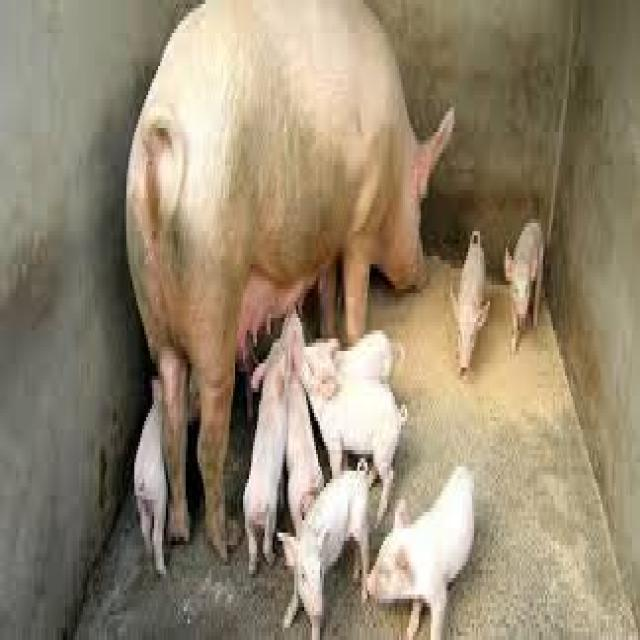Pig: (117, 0, 458, 549), (367, 465, 492, 637), (294, 304, 413, 472), (278, 467, 382, 637), (246, 318, 291, 576), (128, 357, 169, 574), (500, 221, 553, 355), (452, 225, 494, 377)
